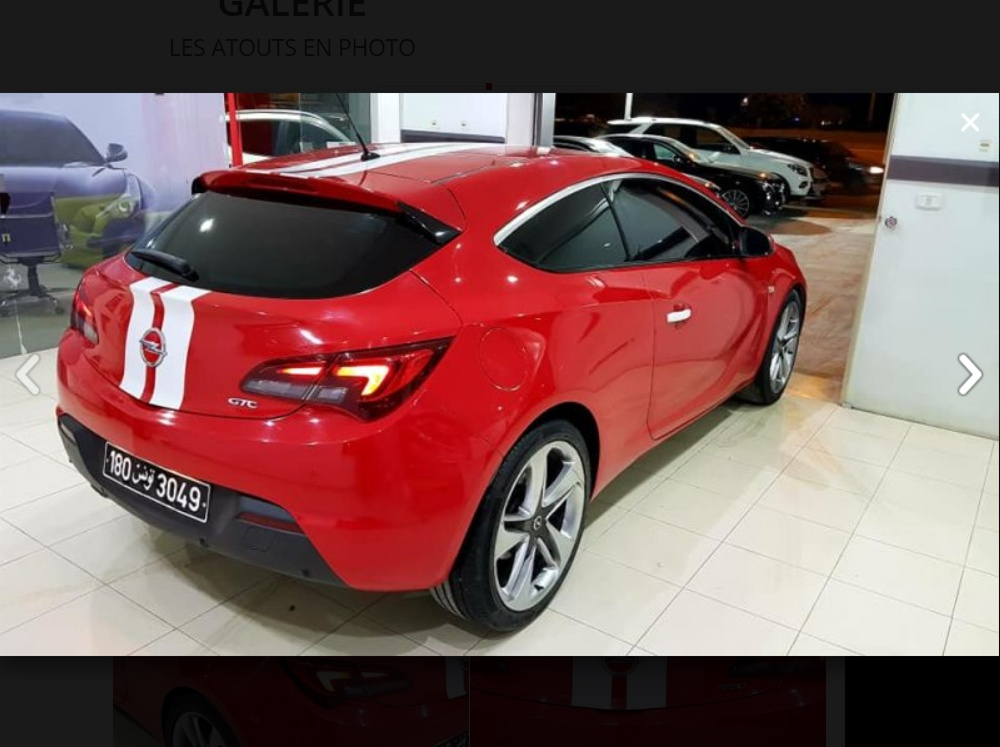LP: (94, 440, 218, 529)
